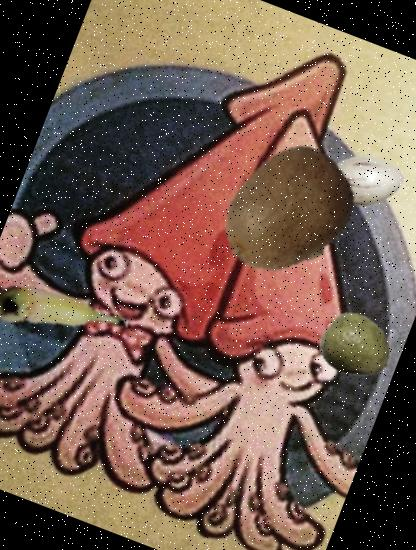Banana: (0, 223, 149, 401)
Guava: (309, 301, 402, 394)
Kiwi: (196, 120, 378, 303)
Pepino: (319, 134, 415, 230)
